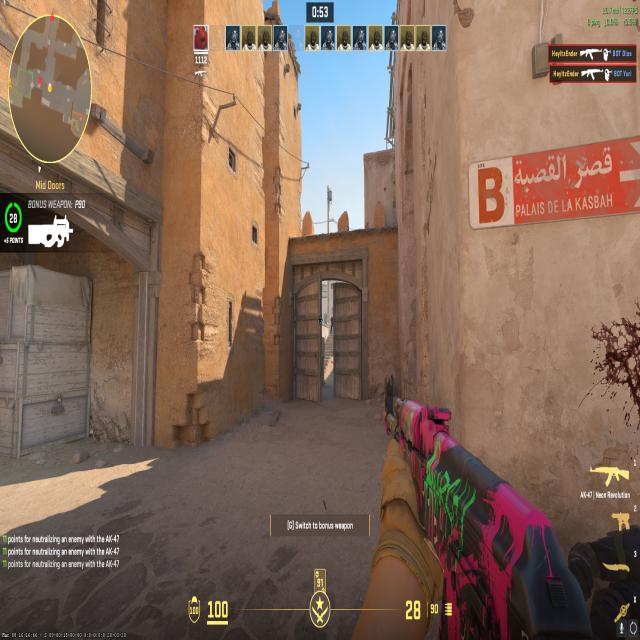ct: (329, 310, 335, 330)
